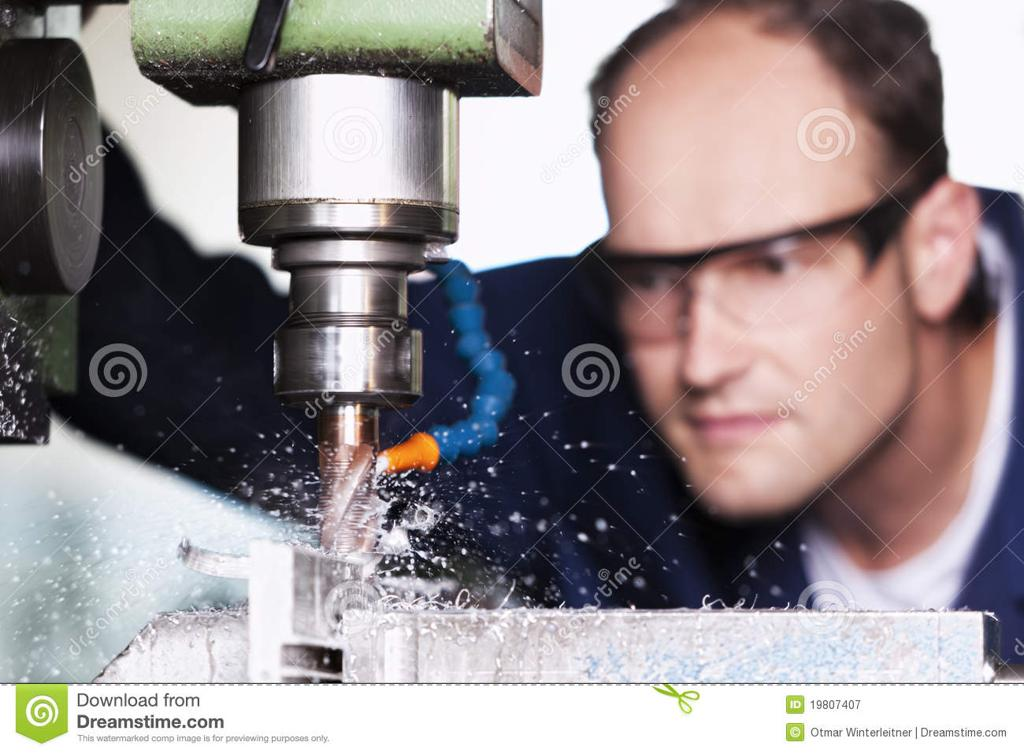face: (612, 74, 884, 498)
